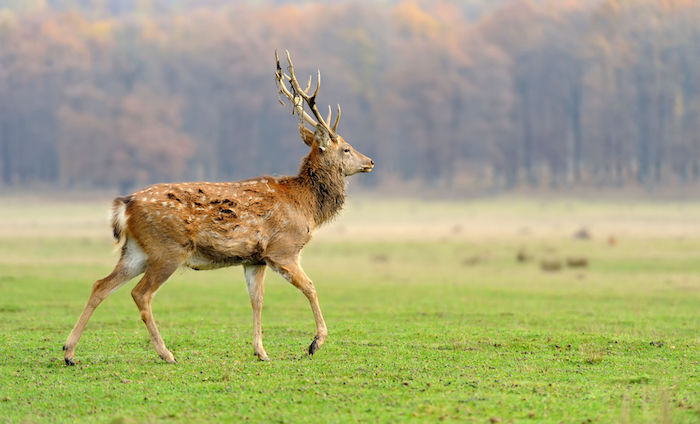Deer: (60, 50, 377, 369)
